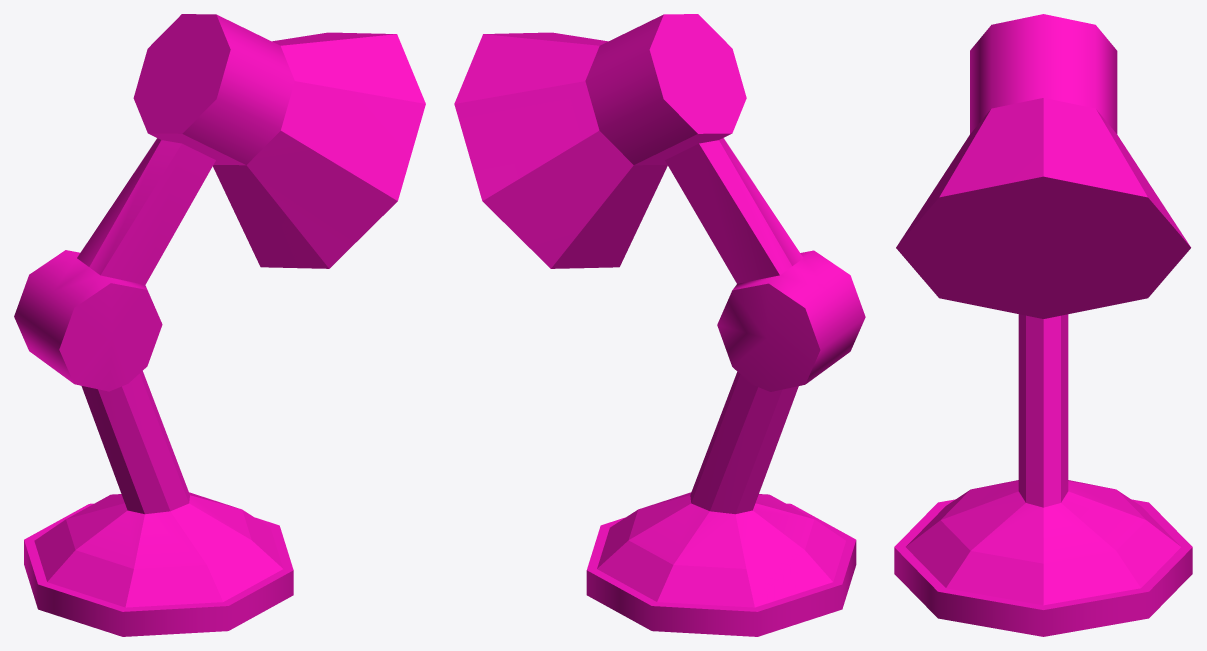
The model's file is study_lamp_1_meshCollider.fbx.
The picture shows the model from 3 angles, left to right: view 1: azimuth 30°, elevation 25°; view 2: azimuth 150°, elevation 25°; view 3: azimuth 270°, elevation 25°; orthographic projection. The views are drawn at different scales.
Parts seen in each view (by area): view 1: study_lamp_1_meshCollider; view 2: study_lamp_1_meshCollider; view 3: study_lamp_1_meshCollider.
Boxes of the visible parts, x1,y1,x2,y2 form: study_lamp_1_meshCollider: (14, 14, 425, 636); study_lamp_1_meshCollider: (454, 14, 865, 636); study_lamp_1_meshCollider: (894, 14, 1192, 636).
Bounding box in the file's own units: 30.93 × 45.26 × 20.76.
